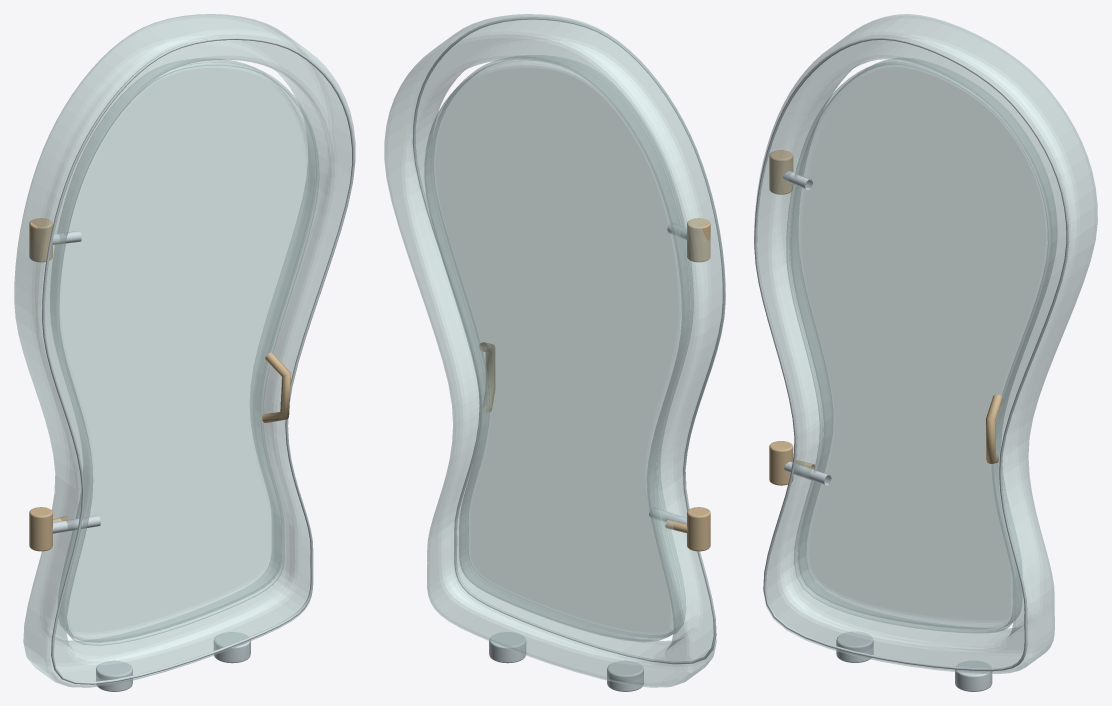
File: melt.glb
3 views of the same model, side by side, from view 1: azimuth 30°, elevation 25°; view 2: azimuth 150°, elevation 25°; view 3: azimuth 330°, elevation 25° (orthographic).
Visible parts, largest first — view 1: Moving_GlassLeaf, Fixed_GlassFrame, Fixed_SilverSeam, Moving_PolishedEdge, Fixed_Hinge, Fixed_Foot, Fixed_Hinge.001, Fixed_Foot.001, Moving_Pull, Moving_HingeStrap; view 2: Moving_GlassLeaf, Fixed_GlassFrame, Fixed_SilverSeam, Moving_PolishedEdge, Fixed_Foot, Fixed_Foot.001, Fixed_Hinge, Fixed_Hinge.001, Moving_Pull; view 3: Moving_GlassLeaf, Fixed_GlassFrame, Fixed_SilverSeam, Moving_PolishedEdge, Fixed_Foot, Fixed_Hinge.001, Fixed_Foot.001, Fixed_Hinge, Moving_Pull, Moving_HingeStrap.
Part boxes in pixels (bbox=[...]): Moving_GlassLeaf: bbox=[50, 58, 315, 642]; Fixed_GlassFrame: bbox=[14, 14, 355, 687]; Fixed_SilverSeam: bbox=[42, 37, 354, 684]; Moving_PolishedEdge: bbox=[56, 62, 319, 645]; Fixed_Hinge: bbox=[29, 507, 52, 551]; Fixed_Foot: bbox=[96, 660, 132, 691]; Fixed_Hinge.001: bbox=[29, 218, 52, 262]; Fixed_Foot.001: bbox=[214, 632, 250, 663]; Moving_Pull: bbox=[262, 352, 291, 422]; Moving_HingeStrap: bbox=[52, 515, 100, 533]; Moving_GlassLeaf: bbox=[424, 58, 689, 642]; Fixed_GlassFrame: bbox=[384, 14, 725, 687]; Fixed_SilverSeam: bbox=[413, 17, 725, 664]; Moving_PolishedEdge: bbox=[431, 55, 693, 637]; Fixed_Foot: bbox=[607, 660, 643, 691]; Fixed_Foot.001: bbox=[489, 632, 525, 663]; Fixed_Hinge: bbox=[687, 507, 710, 551]; Fixed_Hinge.001: bbox=[687, 218, 710, 262]; Moving_Pull: bbox=[479, 342, 494, 411]; Moving_GlassLeaf: bbox=[790, 57, 1057, 629]; Fixed_GlassFrame: bbox=[754, 14, 1097, 673]; Fixed_SilverSeam: bbox=[754, 37, 1069, 671]; Moving_PolishedEdge: bbox=[786, 61, 1050, 633]; Fixed_Foot: bbox=[836, 631, 873, 662]; Fixed_Hinge.001: bbox=[769, 150, 793, 194]; Fixed_Foot.001: bbox=[955, 661, 992, 691]; Fixed_Hinge: bbox=[769, 441, 793, 485]; Moving_Pull: bbox=[986, 394, 1002, 463]; Moving_HingeStrap: bbox=[784, 461, 831, 485].
Size of the model in its own units: 1.79 by 3.44 by 0.3297.
